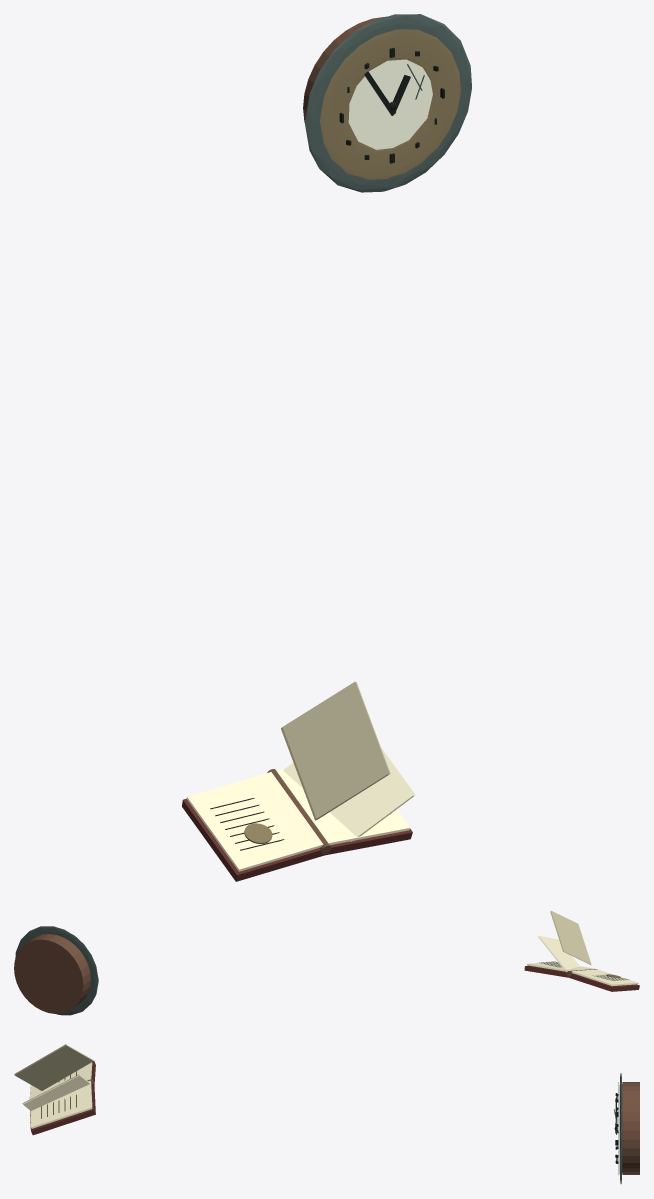
File: classroom-dress.glb
3 views of the same model, one above another, from view 1: azimuth 30°, elevation 25°; view 2: azimuth 150°, elevation 25°; view 3: azimuth 270°, elevation 25° (orthographic). The views are drawn at different scales.
Visible parts, largest first — view 1: CLOCK_Inner_Rim, BOOK_Page_Floating, BOOK_Paper_Left, CLOCK_Brass_Frame, CLOCK_Dial, BOOK_Page_Turning, BOOK_Paper_Right, BOOK_Cover_Left; view 2: CLOCK_Oxblood_Rim, CLOCK_Brass_Frame, BOOK_Page_Floating, BOOK_Page_Turning, BOOK_Paper_Left, BOOK_Cover_Left, BOOK_Paper_Right, BOOK_Cover_Right; view 3: BOOK_Page_Floating, CLOCK_Oxblood_Rim, BOOK_Paper_Right, BOOK_Page_Turning, BOOK_Cover_Right, BOOK_Paper_Left, CLOCK_Brass_Frame.
Part boxes in pixels (x1,y1,x2,y2): CLOCK_Inner_Rim: (320, 29, 460, 179); BOOK_Page_Floating: (281, 681, 390, 820); BOOK_Paper_Left: (186, 772, 323, 871); CLOCK_Brass_Frame: (304, 14, 471, 192); CLOCK_Dial: (348, 59, 432, 149); BOOK_Page_Turning: (283, 747, 415, 841); BOOK_Paper_Right: (276, 769, 410, 844); BOOK_Cover_Left: (182, 798, 324, 881); CLOCK_Oxblood_Rim: (14, 934, 90, 1013); CLOCK_Brass_Frame: (15, 926, 98, 1015); BOOK_Page_Floating: (550, 910, 591, 964); BOOK_Page_Turning: (538, 935, 579, 972); BOOK_Paper_Left: (571, 969, 638, 986); BOOK_Cover_Left: (569, 974, 639, 991); BOOK_Paper_Right: (527, 962, 594, 971); BOOK_Cover_Right: (524, 965, 568, 977); BOOK_Page_Floating: (14, 1044, 93, 1090); CLOCK_Oxblood_Rim: (622, 1082, 639, 1174); BOOK_Paper_Right: (30, 1080, 92, 1128); BOOK_Page_Turning: (22, 1074, 89, 1110); BOOK_Cover_Right: (30, 1083, 95, 1135); BOOK_Paper_Left: (29, 1062, 92, 1099); CLOCK_Brass_Frame: (619, 1073, 622, 1183).
Bounding box in the file's own units: 4.23 × 1.82 × 5.31.
